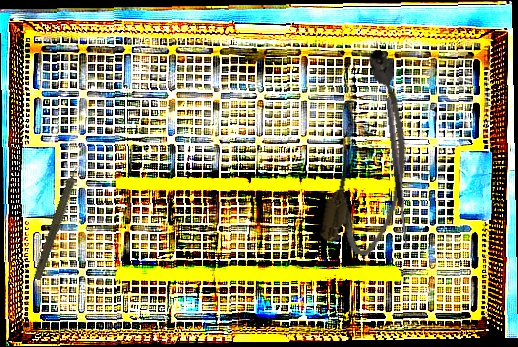Cannula: (316, 45, 430, 261)
Handpiece: (31, 156, 87, 283)
Hook Surgical: (384, 96, 418, 251)
